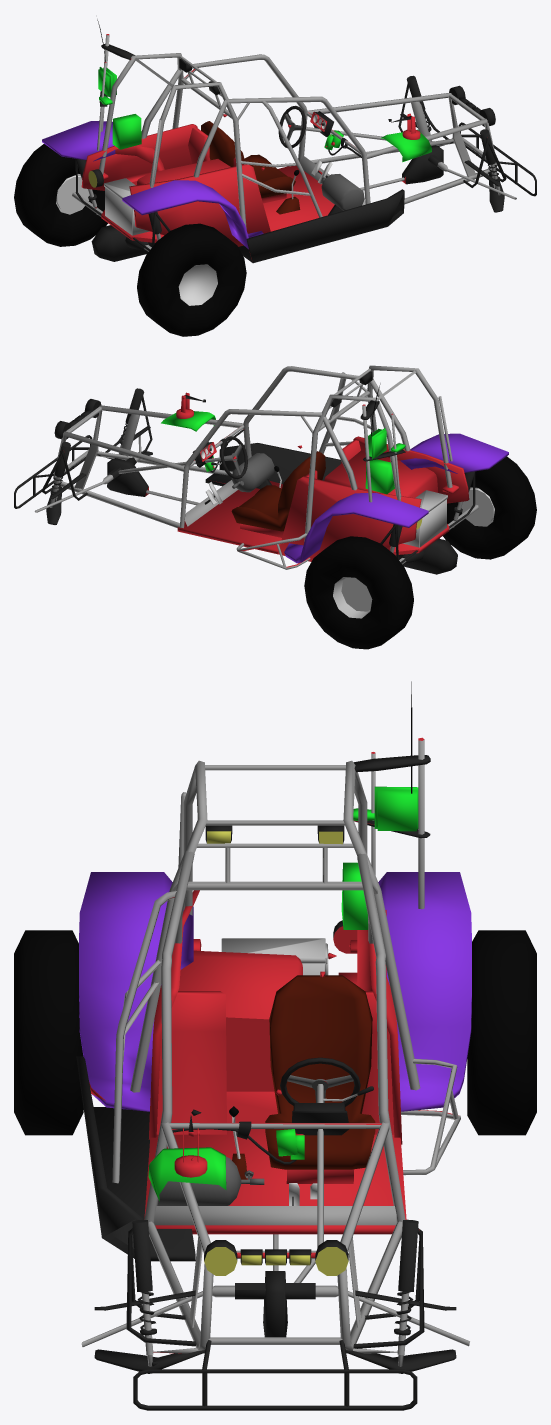
File: buggy_rearwheel.dae
3 renders of one model, top to bottom at view 1: azimuth 30°, elevation 25°; view 2: azimuth 150°, elevation 25°; view 3: azimuth 270°, elevation 25°, orthographic. The views are drawn at different scales.
Visible parts, largest first — view 1: _null__0012; view 2: _null__0012; view 3: _null__0012.
Part boxes in pixels (<box>): _null__0012: <box>14,19,536,336</box>; _null__0012: <box>14,365,536,649</box>; _null__0012: <box>14,681,536,1410</box>.
Size of the model in its own units: 1.77 by 1.04 by 0.9924.
